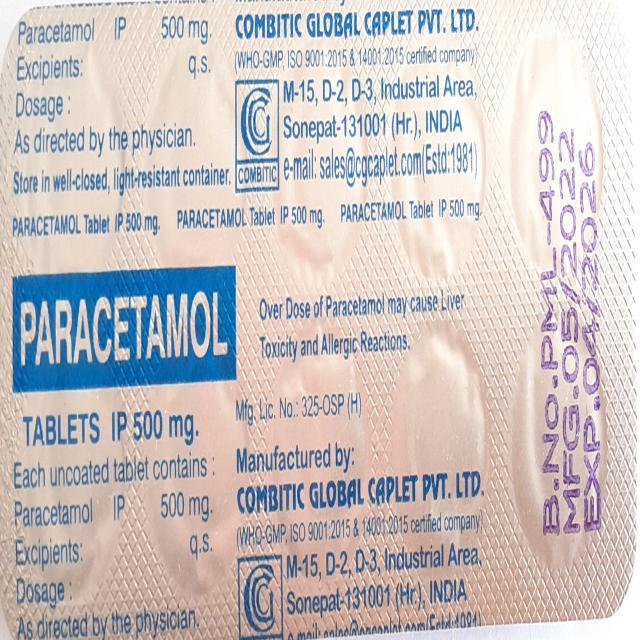drug-name: (19, 290, 230, 366)
